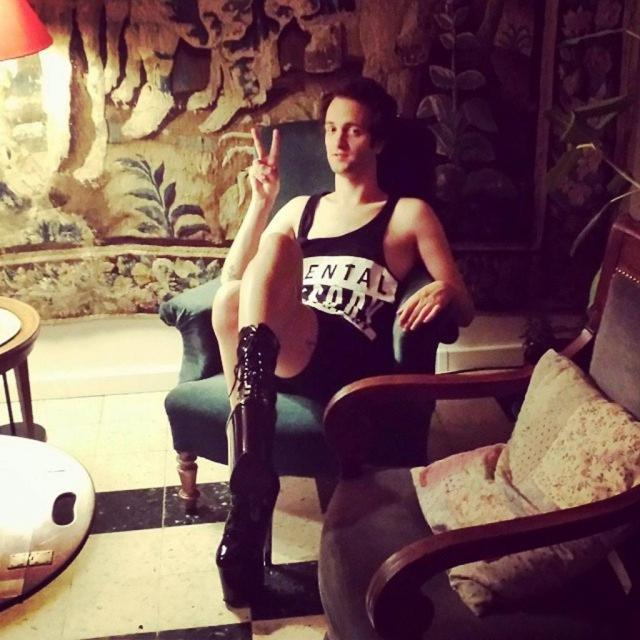nomask: (324, 95, 374, 174)
